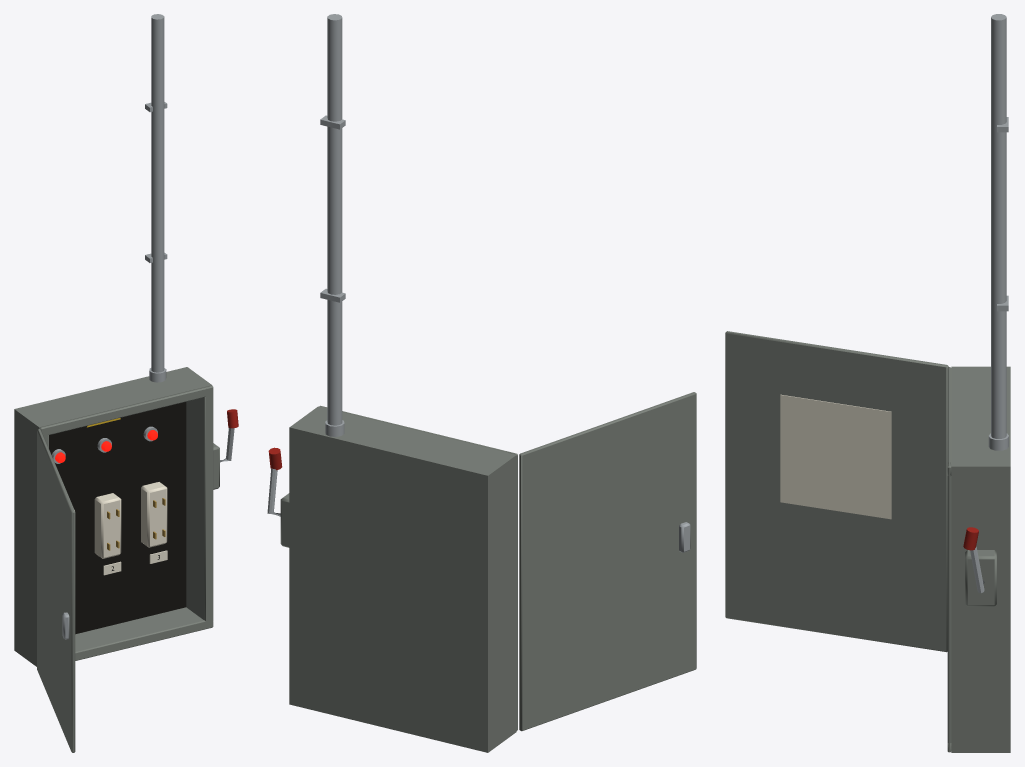
Rendered from fuse_box.glb.
3 renders of one model, left to right at view 1: azimuth 30°, elevation 25°; view 2: azimuth 150°, elevation 25°; view 3: azimuth 270°, elevation 25°, orthographic. The views are drawn at different scales.
Parts seen in each view (by area): view 1: FuseBox; view 2: FuseBox; view 3: FuseBox.
Part boxes in pixels (bbox=[...]): FuseBox: bbox=[14, 14, 238, 752]; FuseBox: bbox=[267, 14, 696, 752]; FuseBox: bbox=[725, 14, 1010, 752].
Bounding box in the file's own units: 0.9349 × 2 × 0.7228.
